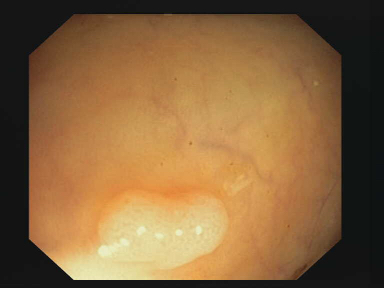polyp: (100, 185, 231, 273)
